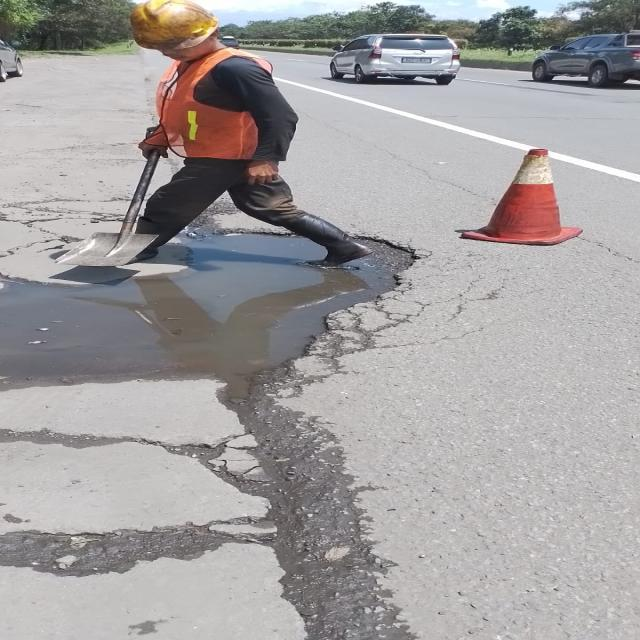Buraco: (0, 222, 425, 406)
